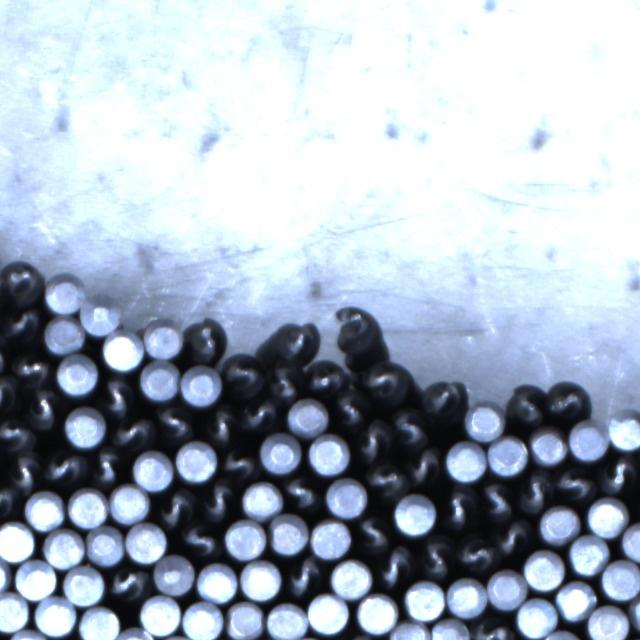tool: (393, 493, 438, 535), (174, 439, 217, 482), (522, 547, 564, 589), (260, 432, 302, 474), (56, 352, 98, 394), (355, 592, 397, 634), (325, 475, 368, 516), (64, 564, 106, 605), (308, 593, 349, 635), (403, 579, 445, 620), (68, 487, 110, 528), (195, 562, 237, 603), (330, 558, 372, 599), (515, 598, 557, 639), (239, 560, 281, 601), (125, 520, 167, 561), (133, 448, 175, 489), (140, 595, 182, 636), (307, 433, 349, 474), (587, 497, 630, 537), (43, 528, 86, 568), (181, 364, 222, 405), (446, 576, 487, 617), (445, 440, 486, 481), (23, 490, 64, 531), (64, 405, 105, 446), (464, 399, 505, 440), (36, 596, 78, 636), (554, 579, 596, 619), (110, 482, 152, 522), (225, 518, 267, 558), (16, 558, 58, 598), (486, 568, 526, 610), (45, 270, 85, 312), (309, 517, 350, 557), (139, 360, 179, 401), (102, 332, 143, 372), (154, 554, 195, 594), (268, 513, 308, 554), (265, 601, 307, 640), (286, 398, 328, 437), (487, 435, 527, 475), (570, 535, 610, 575), (569, 421, 609, 461), (183, 601, 224, 640), (601, 557, 640, 598), (242, 479, 283, 518), (540, 505, 581, 544), (45, 316, 86, 355), (86, 526, 125, 566), (528, 427, 567, 466), (81, 296, 120, 335), (586, 604, 628, 640), (226, 601, 264, 640), (143, 321, 182, 359), (0, 519, 35, 560), (80, 606, 122, 640), (608, 411, 640, 449), (0, 593, 30, 633), (432, 617, 472, 640), (388, 619, 430, 640), (622, 520, 640, 560), (114, 627, 157, 640), (629, 591, 640, 635), (0, 554, 11, 598), (540, 629, 583, 640), (8, 629, 50, 640)
tool_b: (324, 300, 380, 360), (358, 359, 410, 404), (276, 321, 322, 364), (185, 318, 229, 362), (222, 350, 264, 396), (423, 377, 469, 418), (0, 259, 41, 305), (544, 380, 590, 420), (175, 521, 221, 559), (374, 543, 413, 587), (508, 383, 546, 428), (454, 533, 496, 573), (354, 417, 392, 461), (441, 485, 478, 530), (43, 447, 86, 485), (156, 488, 196, 528), (282, 558, 322, 598), (365, 461, 406, 500), (392, 406, 430, 448), (418, 536, 456, 578), (0, 305, 39, 345), (198, 480, 236, 521), (494, 517, 532, 558), (306, 358, 346, 396), (154, 403, 194, 441), (552, 466, 594, 502), (108, 414, 152, 448), (354, 514, 393, 552), (108, 567, 149, 603), (600, 454, 637, 493), (238, 398, 278, 434), (479, 481, 515, 521), (518, 472, 553, 513), (100, 375, 135, 416), (24, 389, 59, 430), (407, 445, 442, 486), (283, 474, 321, 511), (265, 362, 301, 401), (88, 446, 124, 485), (220, 444, 258, 479), (8, 450, 42, 489), (12, 352, 51, 386), (332, 393, 366, 428), (206, 406, 237, 444), (0, 417, 32, 453), (470, 618, 515, 640), (0, 372, 18, 414), (0, 482, 18, 520)
